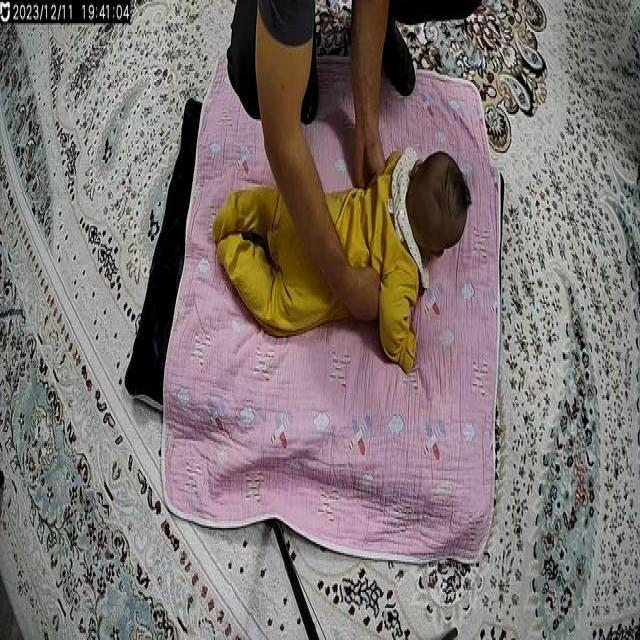baby: (210, 145, 472, 386)
